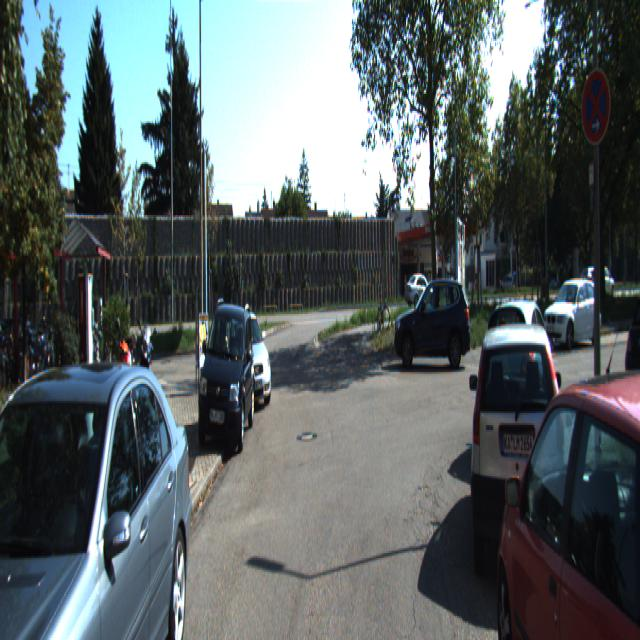Car: (0, 346, 197, 638), (488, 275, 640, 638), (467, 307, 570, 611), (475, 288, 558, 480), (196, 298, 256, 465), (392, 271, 473, 371), (221, 306, 275, 413), (539, 277, 603, 348), (622, 281, 640, 400), (403, 271, 438, 311)
